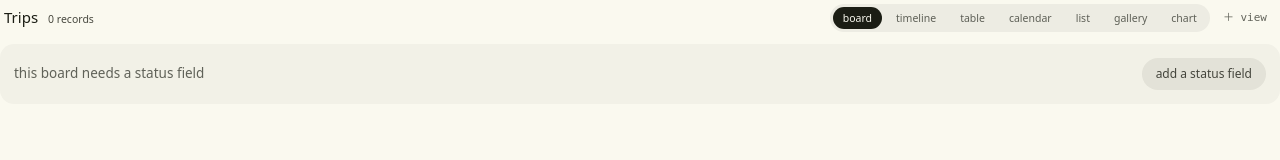
Test: CollectionBoard — the "add a status field" remedy (KAN-351) › clicking it mints a status field with the three default lanes, and the remedy goes
Click the button "add a status field".
click(1204, 74)  # box [1142,58,1266,90]
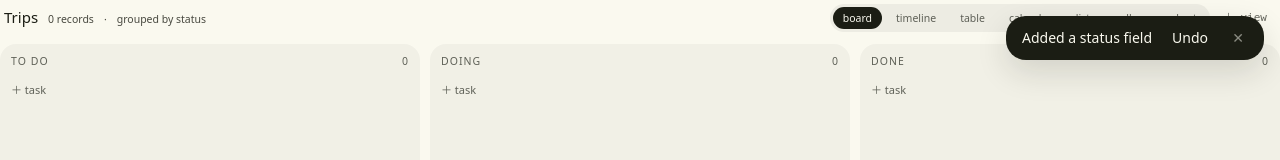
Now the button "add a status field" is gone
Now the text "to do" is shown, box [11,54,49,69]
Now the text "doing" is shown, box [441,54,481,69]
